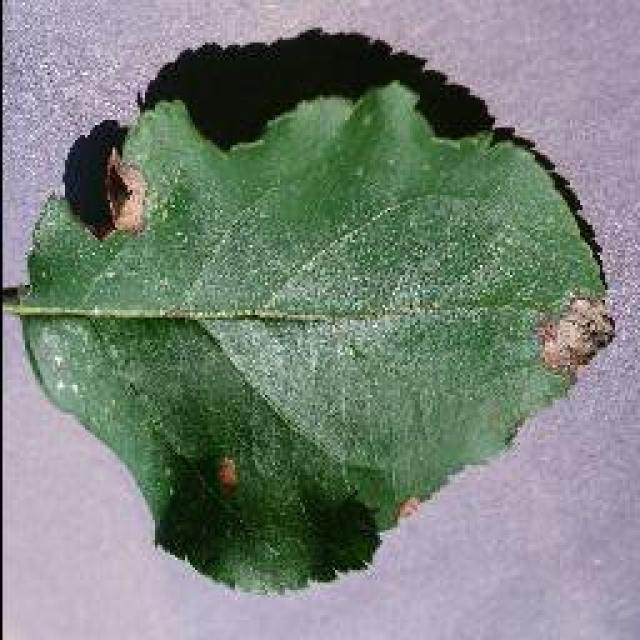apple black rot: (12, 25, 618, 595)
